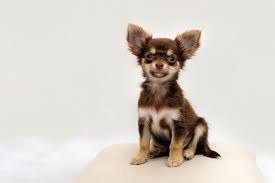chihuahua: (119, 18, 223, 176)
